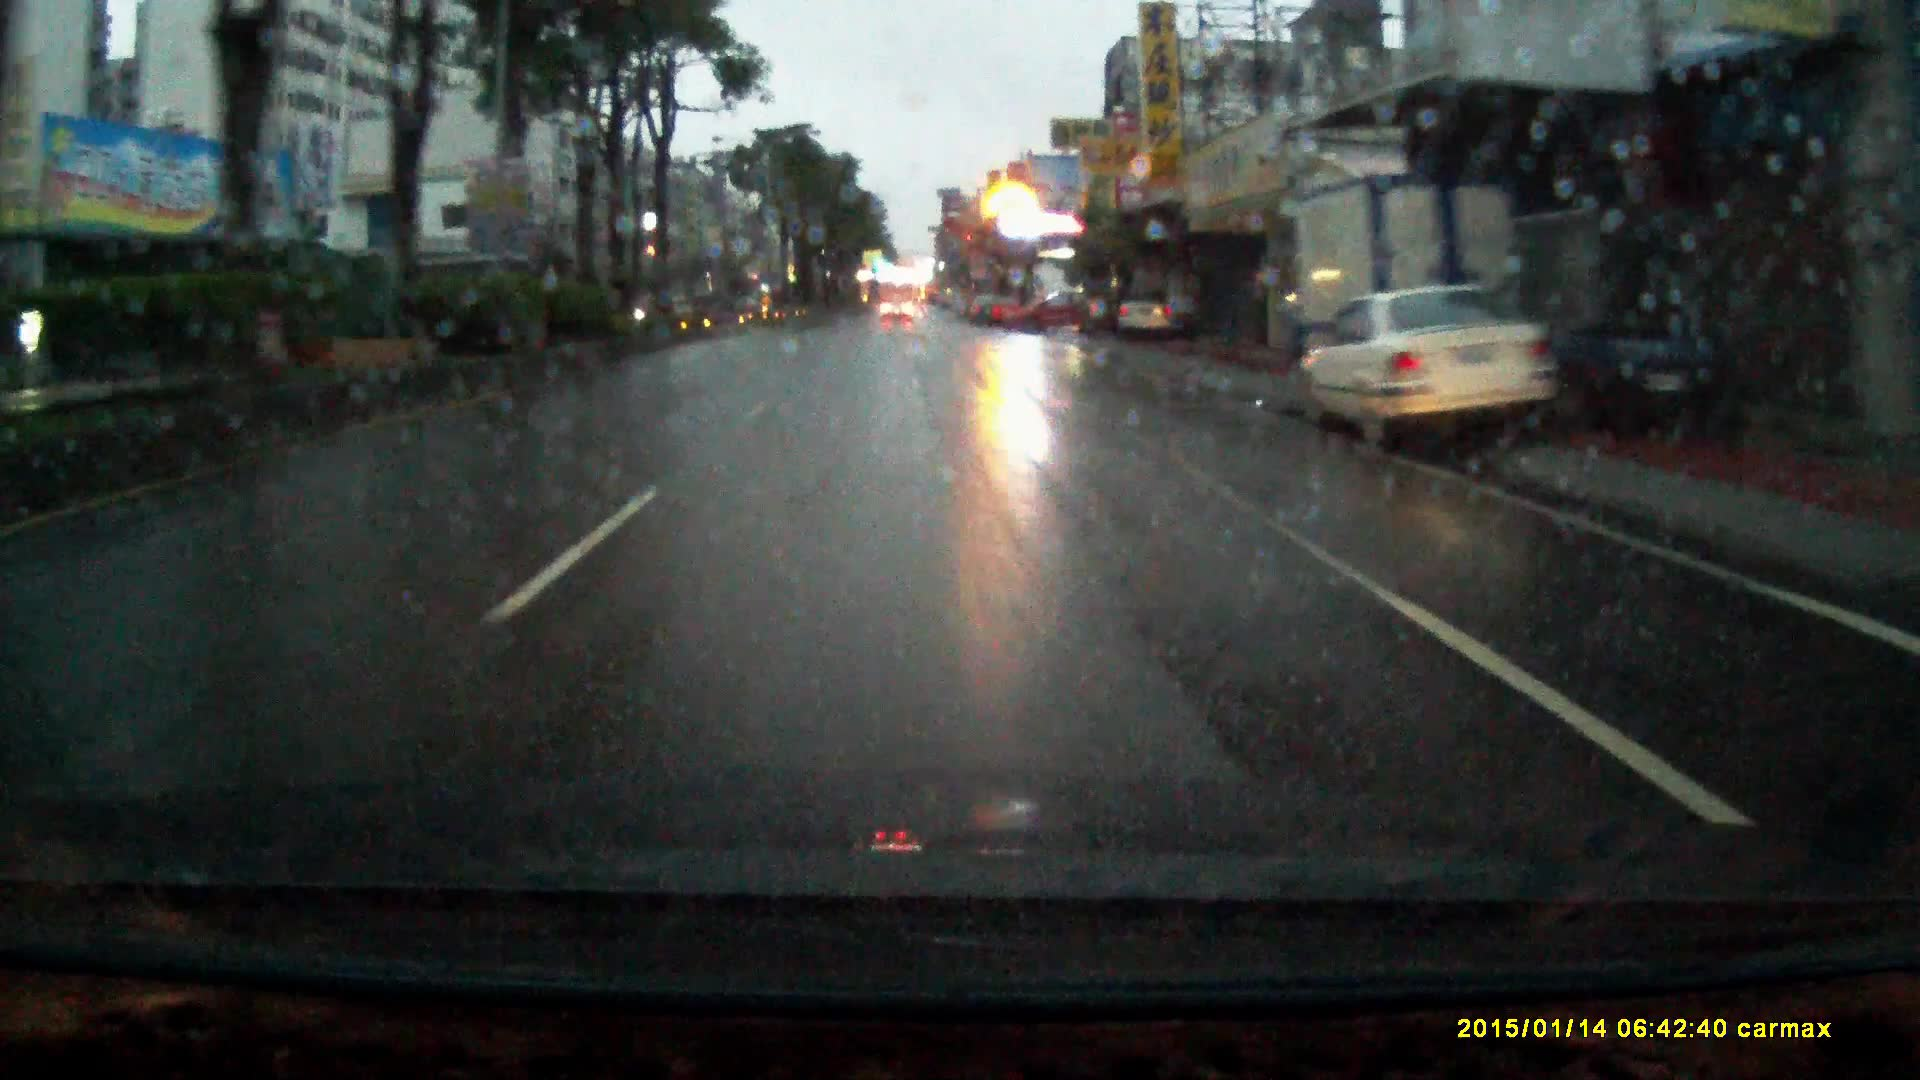vehicle: (1273, 152, 1571, 401), (1545, 210, 1789, 436), (1288, 286, 1577, 450), (1004, 290, 1097, 338), (1102, 291, 1176, 342), (881, 298, 913, 327)
